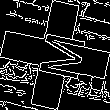M_W: (25, 27, 85, 83)
